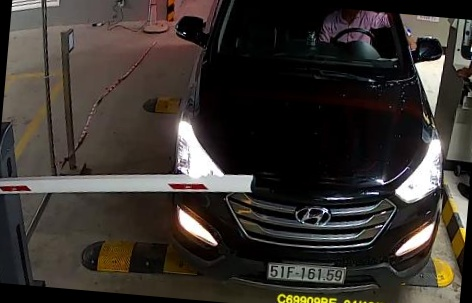plate: (263, 256, 345, 288)
